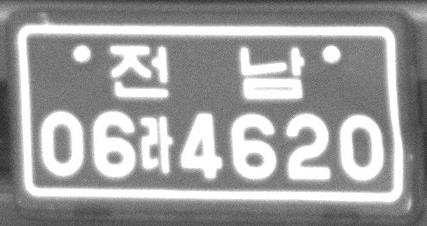0: (337, 113, 385, 182), (39, 108, 84, 177)
2: (286, 111, 332, 182)
4: (179, 112, 223, 179)
6: (230, 112, 277, 180), (92, 109, 136, 178)
라: (139, 114, 173, 175)
전남_D: (108, 42, 306, 102)
